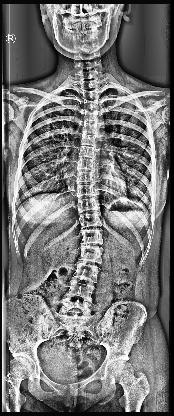Vertebrae: (72, 262, 102, 284), (66, 280, 96, 302), (63, 299, 91, 317), (78, 245, 104, 264), (80, 212, 102, 230), (80, 228, 104, 244), (78, 197, 98, 214), (76, 171, 96, 185), (77, 184, 97, 198), (76, 158, 94, 172), (78, 146, 96, 158), (82, 110, 99, 122), (82, 122, 98, 134), (80, 134, 96, 146), (81, 80, 99, 90), (84, 100, 100, 110), (82, 90, 100, 98)
